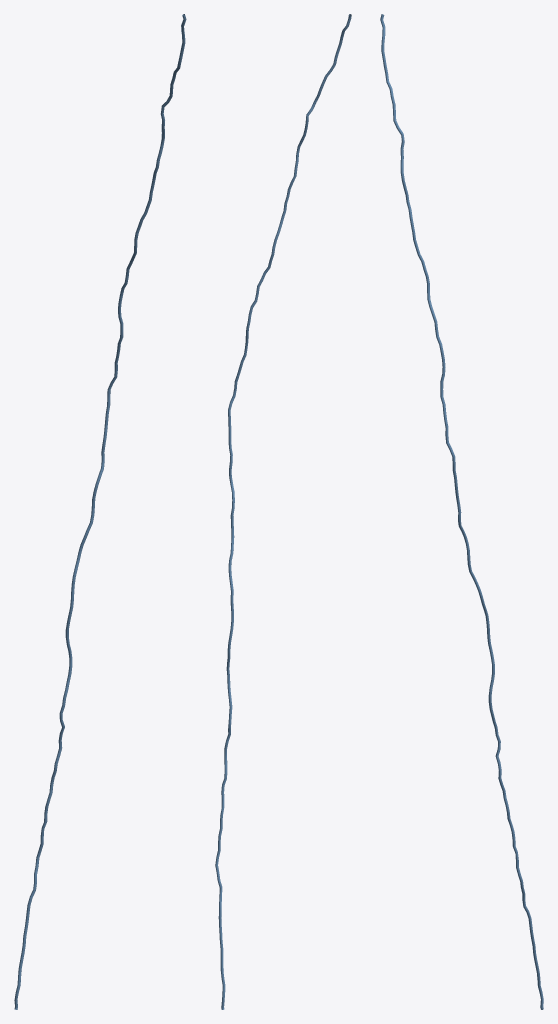
File: sweep41.fbx
The picture shows the model from 3 angles, left to right: view 1: azimuth 90°, elevation 25°; view 2: azimuth 150°, elevation 25°; view 3: azimuth 270°, elevation 25°; orthographic projection. The views are drawn at different scales.
Parts seen in each view (by area): view 1: sweep41; view 2: sweep41; view 3: sweep41.
Part boxes in pixels (box(x1,y1,x2,y2)): sweep41: box(14, 14, 186, 1009); sweep41: box(215, 14, 351, 1009); sweep41: box(380, 14, 543, 1009).
Bounding box in the file's own units: 0.7021 × 7.19 × 1.1.
